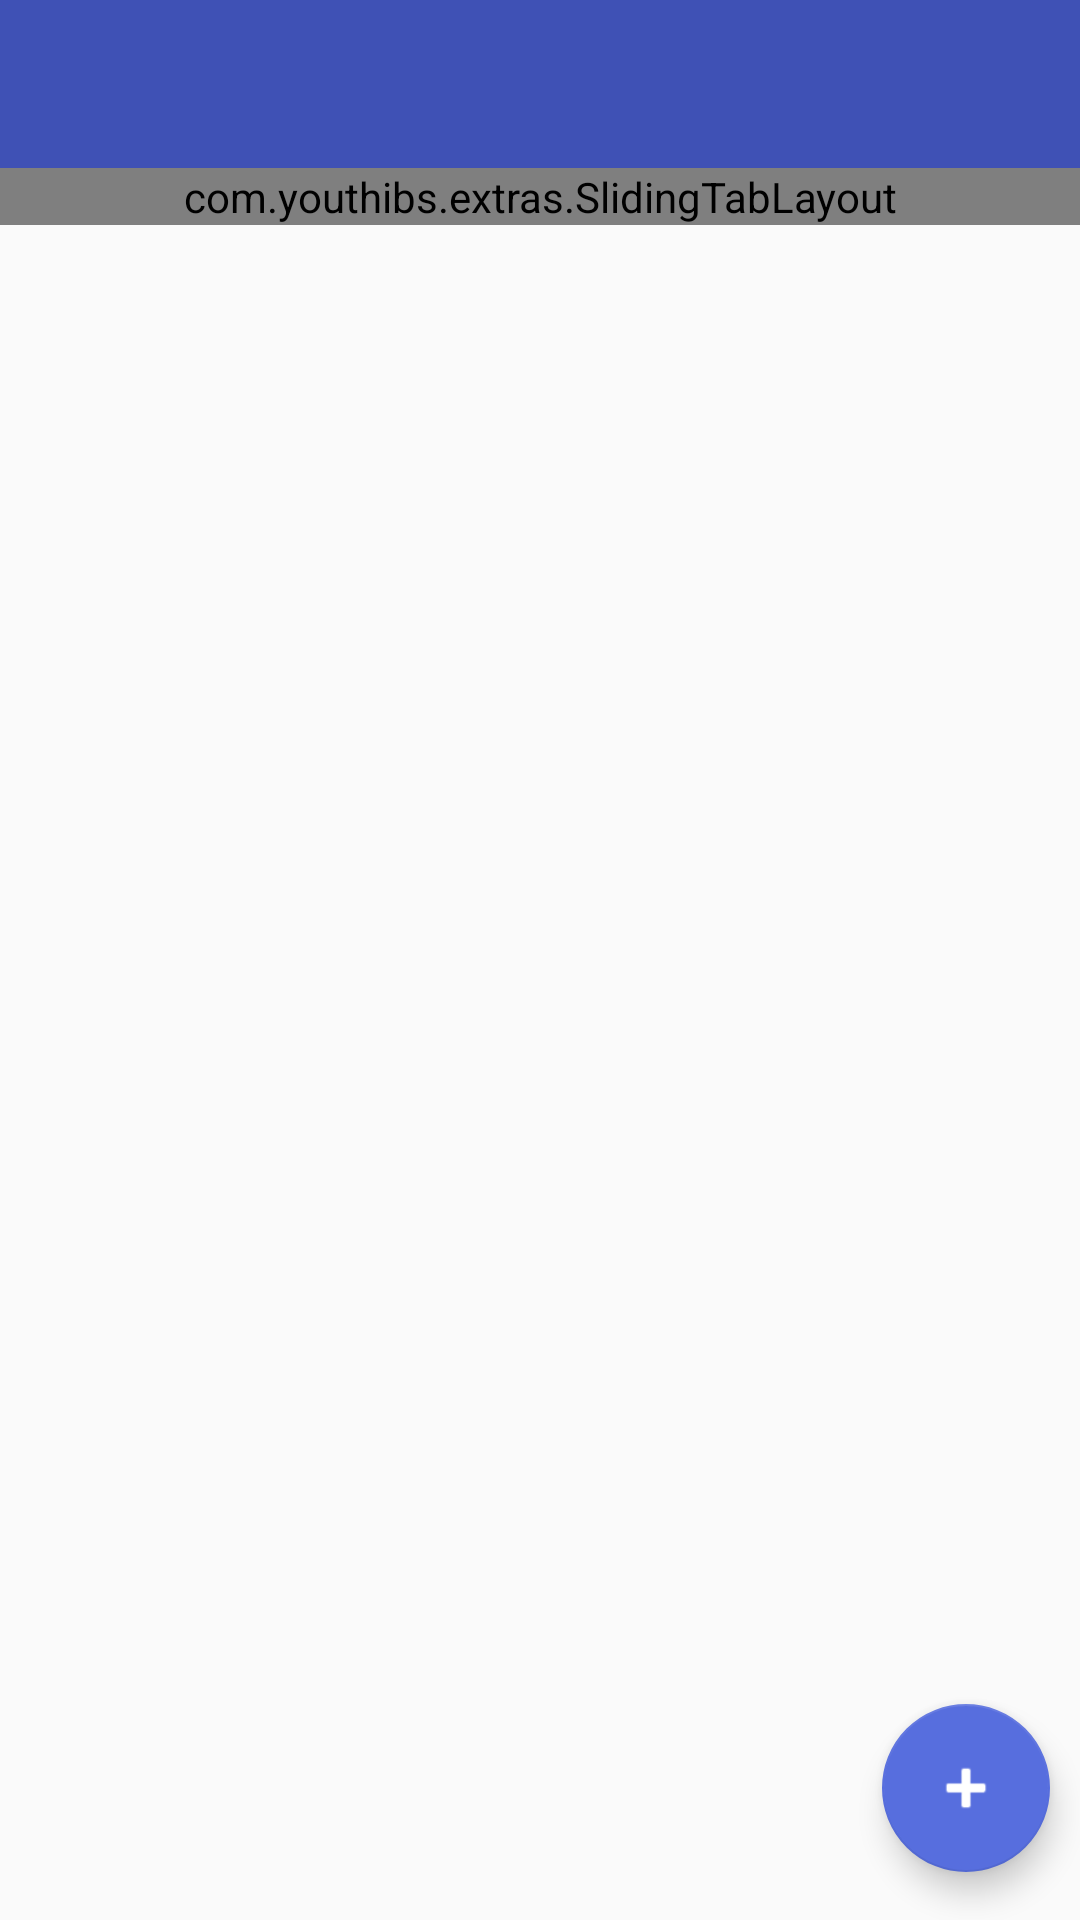

Screen size 1080px x 1920px. Icon name, then its center in pixels as (x=x, y=y):
add: (x=966, y=1788)
